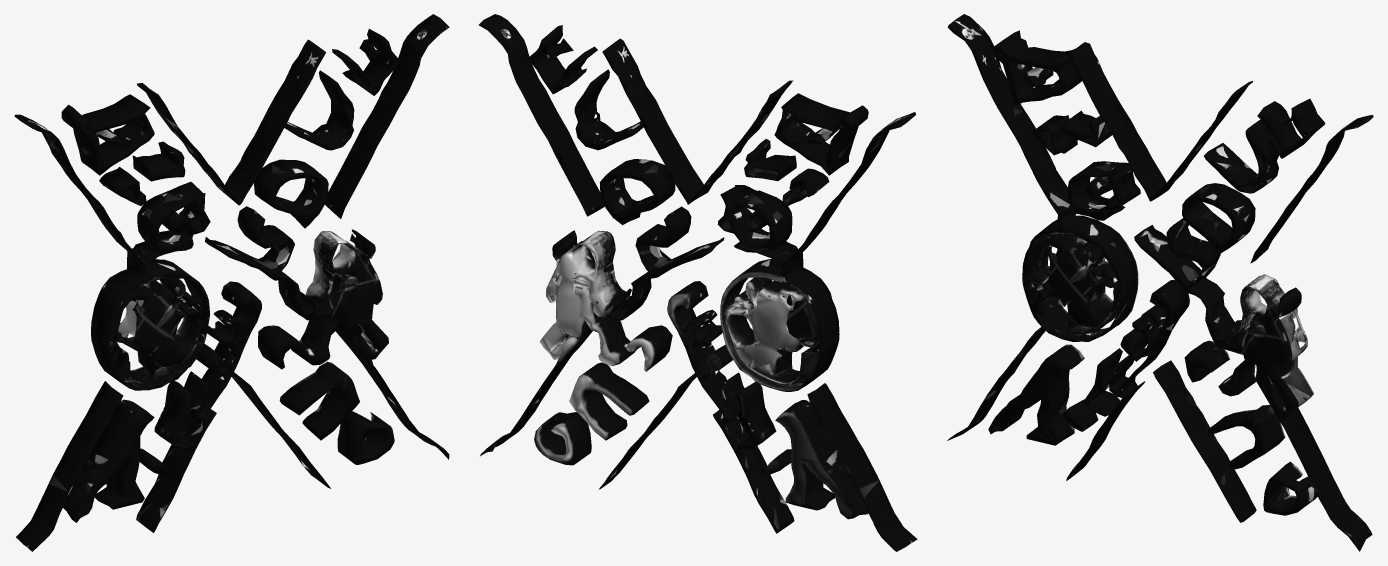
File: Stack_of_Bills.glb
The picture shows the model from 3 angles, left to right: view 1: azimuth 30°, elevation 25°; view 2: azimuth 150°, elevation 25°; view 3: azimuth 330°, elevation 25°; orthographic projection. The views are drawn at different scales.
Bounding box in the file's own units: 2 × 2 × 0.179.
Materials: 1 (1 with a texture image).
